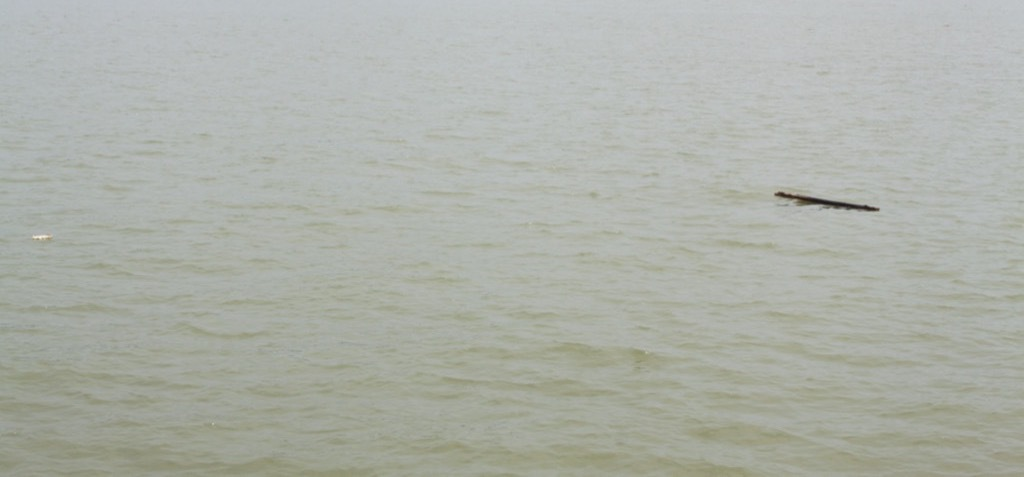organic: (767, 180, 890, 228)
plastic: (21, 223, 60, 251)
